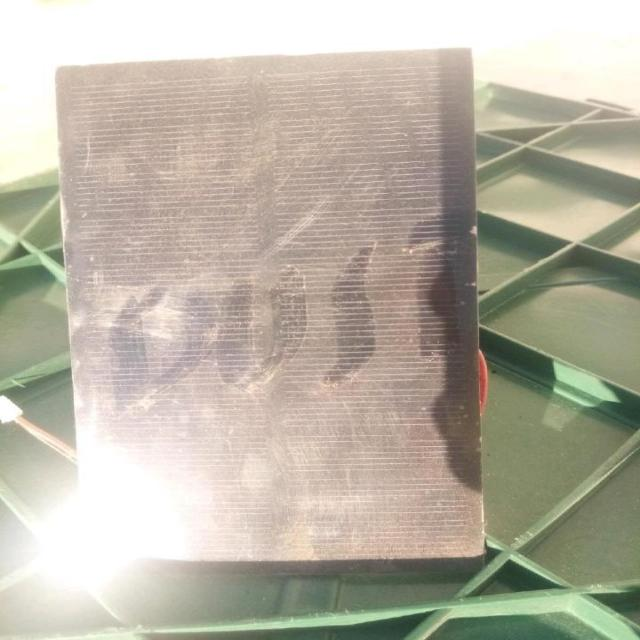faulty: (51, 65, 480, 557)
